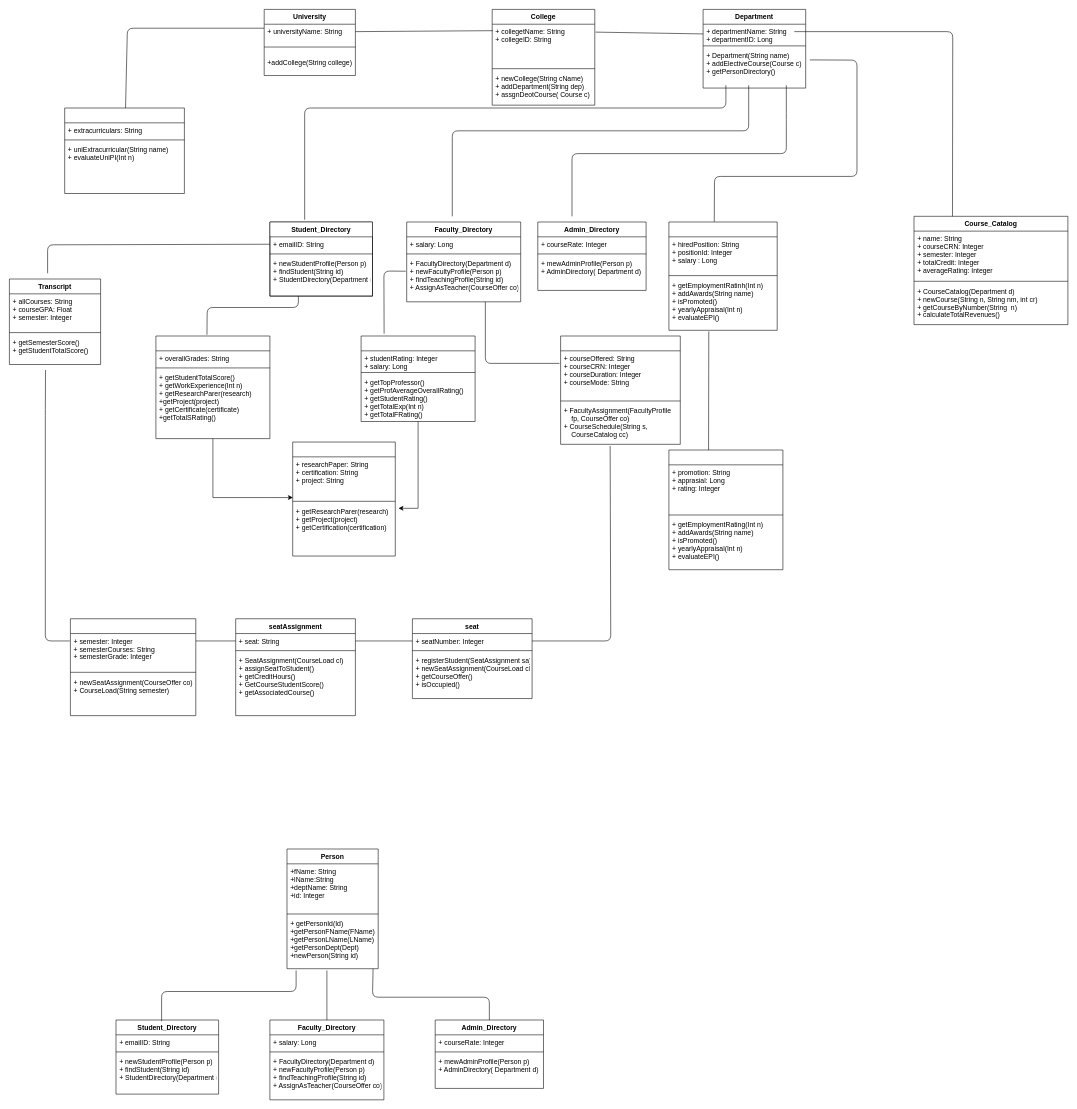
Some shapes in this 1077 by 1109 pixel diagram are drawn without their labels. The shapes that lost their labels are listed below. From the top down, each one's box as (x1, y1, x2, y2) in pixels, then its label:
(64, 107, 184, 194): universityPerformanceIndicator
(668, 221, 777, 330): Employer
(155, 335, 270, 439): StudentPerformanceIndicator
(361, 335, 475, 422): FacultyPerformanceIndicator
(560, 335, 680, 444): Course_Offering
(292, 441, 395, 556): Academic_Accomplishment
(668, 449, 783, 570): employerPerformanceIndicator
(70, 618, 196, 716): Student_Course_Load
